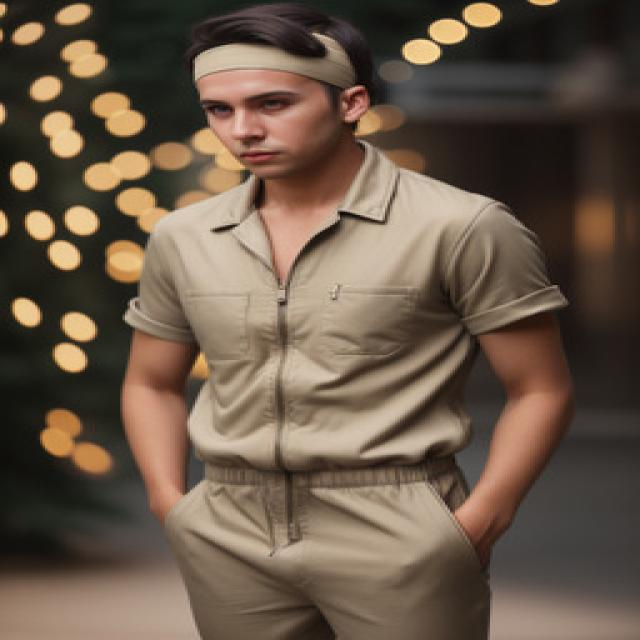Ai human 2: (99, 5, 584, 640)
